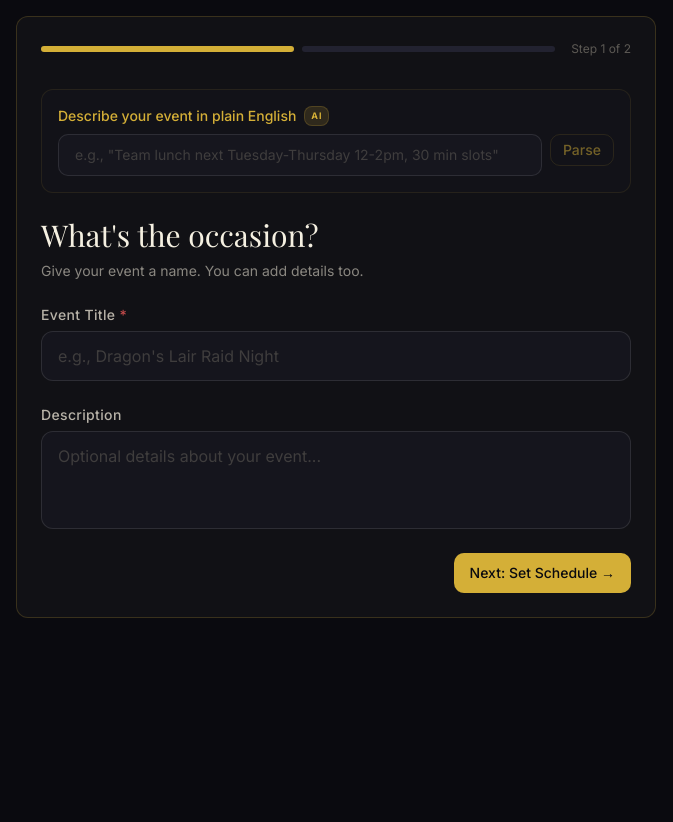
Test: CreateEventPage › step progression works: valid title advances to step 2
In the field labelled "Event Title*": (336, 356) [41,331,631,381], type "Dragon Raid"
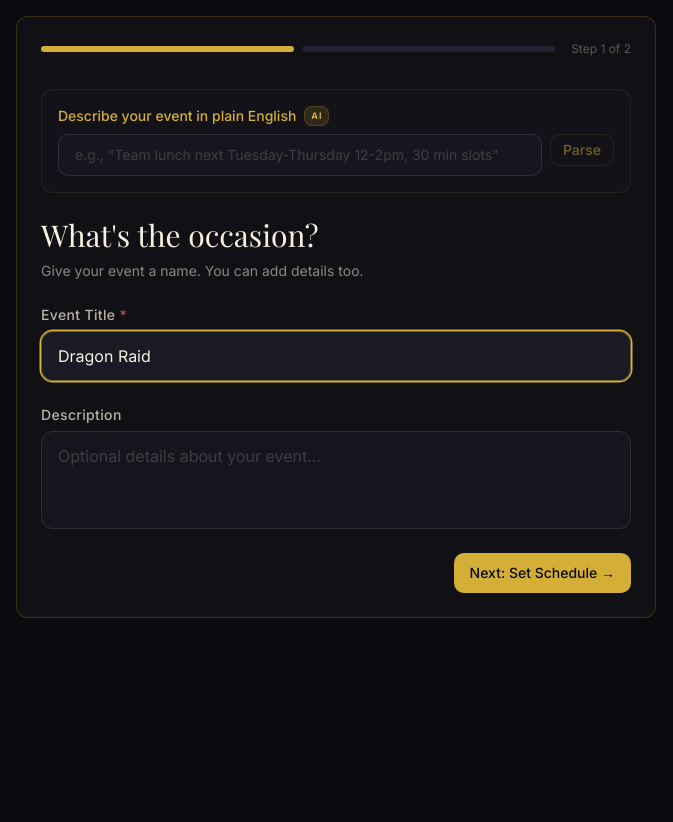
Click the button "Next: Set Schedule →": (542, 573) [454,553,631,593]
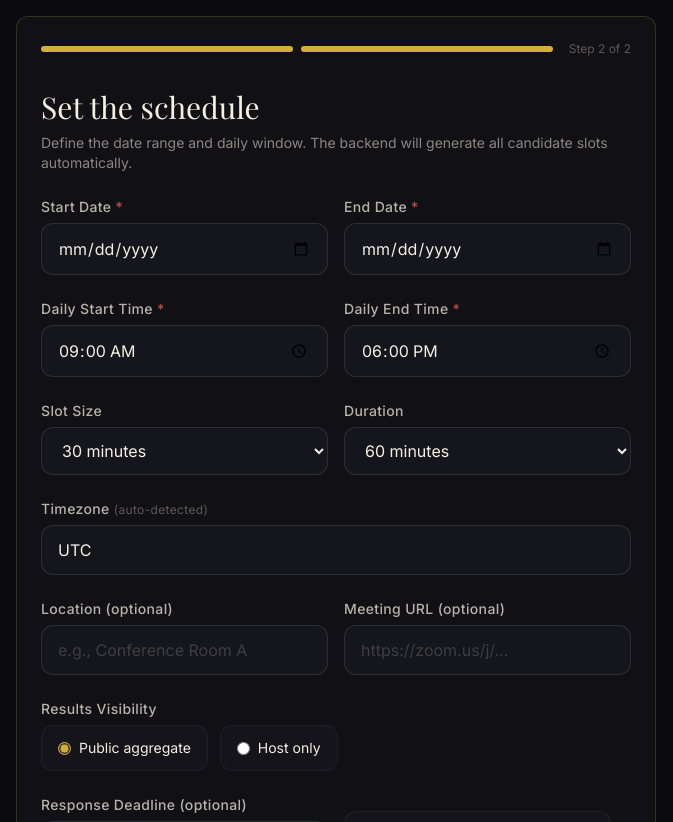
Now the heading "Set the schedule" is shown, box [41,87,260,127]
